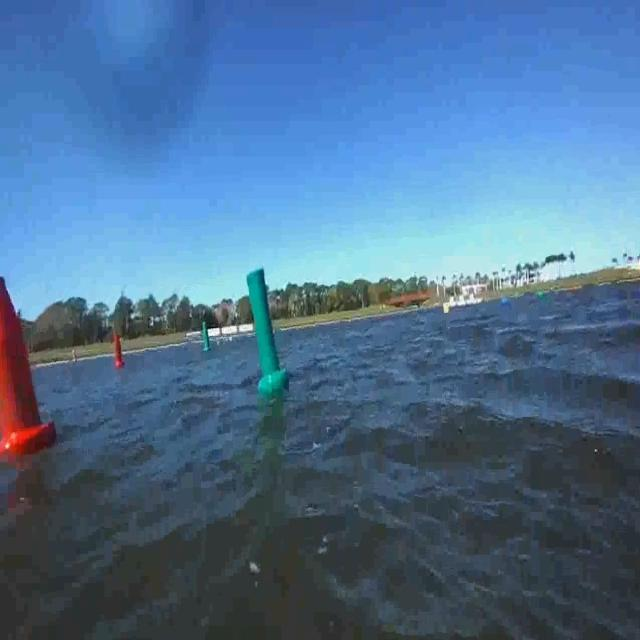blue-buoy: (500, 294, 510, 307)
green-column-buoy: (246, 266, 291, 394), (202, 323, 213, 353)
red-column-buoy: (0, 272, 58, 458), (115, 333, 127, 368)
yellow-buoy: (444, 303, 452, 316)
